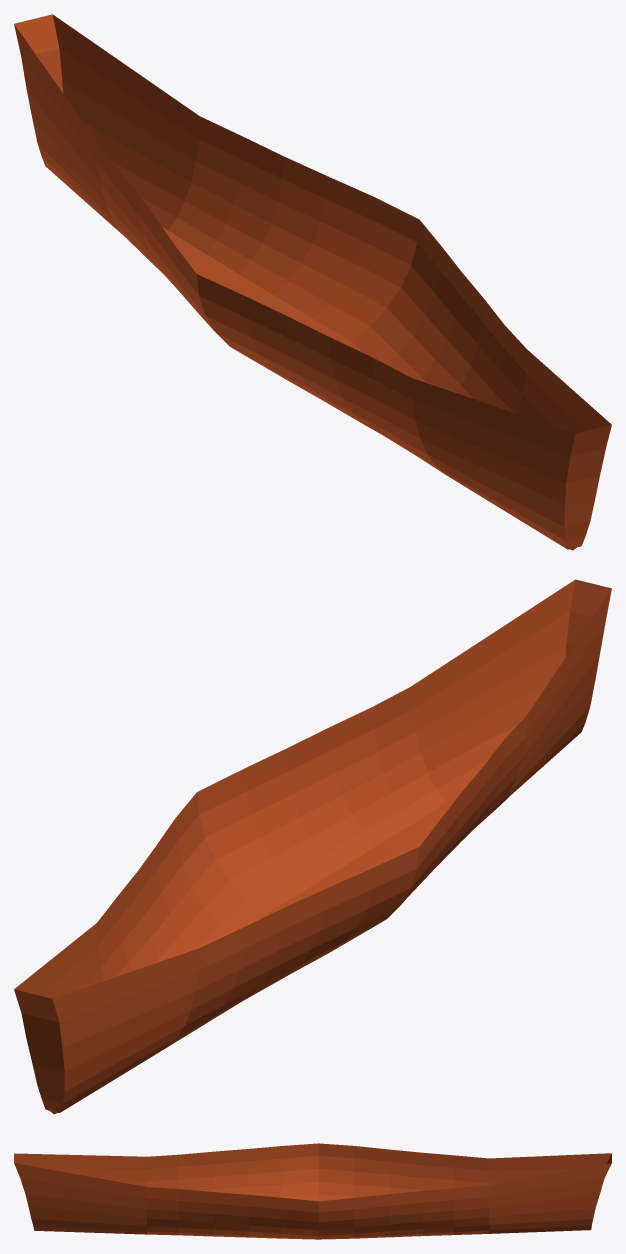
File: Caiaque 1.0.glb
The picture shows the model from 3 angles, top to bottom: view 1: azimuth 30°, elevation 25°; view 2: azimuth 150°, elevation 25°; view 3: azimuth 270°, elevation 25°; orthographic projection. The views are drawn at different scales.
Visible parts, largest first — view 1: Cilindro; view 2: Cilindro; view 3: Cilindro.
Boxes of the visible parts, bbox=[...] form: Cilindro: bbox=[14, 14, 611, 550]; Cilindro: bbox=[14, 579, 611, 1114]; Cilindro: bbox=[14, 1143, 611, 1239].
Bounding box in the file's own units: 2.42 × 1.42 × 10.56.
